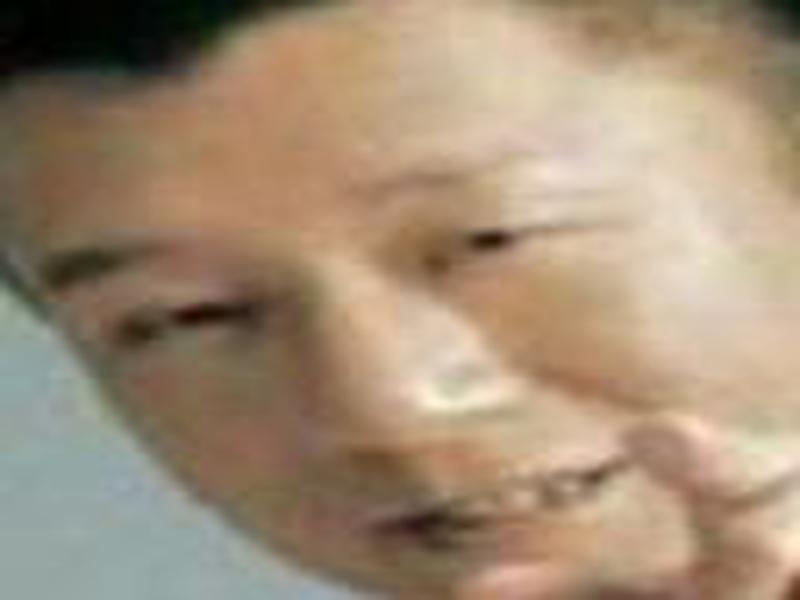without_mask: (10, 14, 800, 600)
